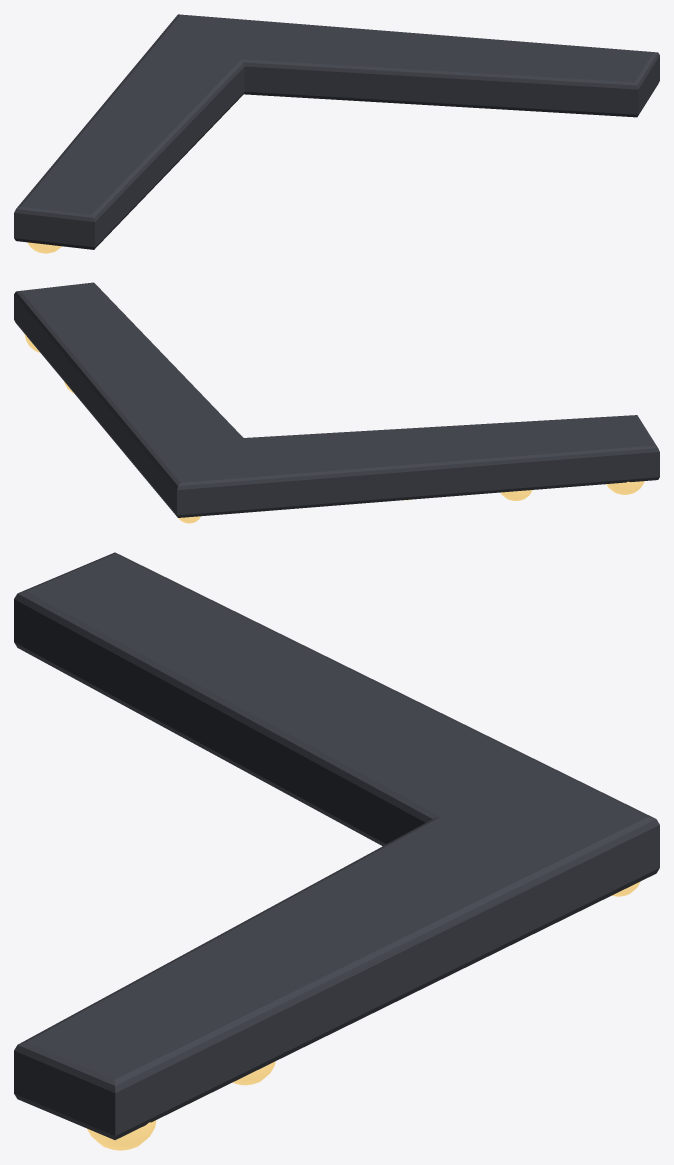
File: boomerang.glb
3 renders of one model, top to bottom at view 1: azimuth 30°, elevation 25°; view 2: azimuth 150°, elevation 25°; view 3: azimuth 270°, elevation 25°, orthographic. The views are drawn at different scales.
Visible parts, largest first — view 1: hull_mesh; view 2: hull_mesh, edge; view 3: hull_mesh, edge.
Part boxes in pixels (x1,y1,x2,y2): hull_mesh: (14, 14, 659, 249); hull_mesh: (14, 282, 659, 517); edge: (24, 334, 644, 523); hull_mesh: (14, 552, 659, 1139); edge: (87, 881, 640, 1150).
Size of the model in its own units: 70 by 5.48 by 35.61.
